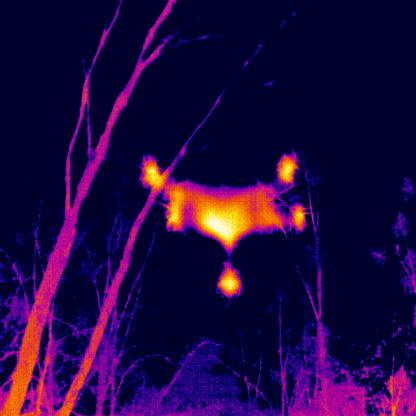drone: (138, 152, 307, 300)
